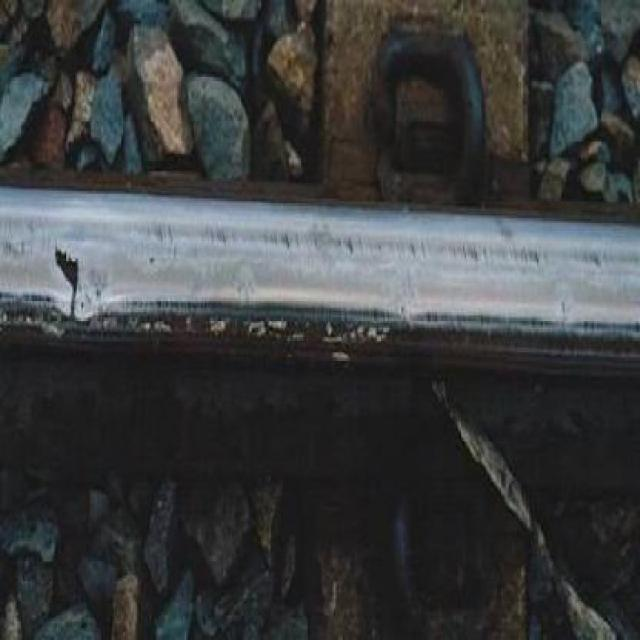defective: (32, 178, 640, 390)
